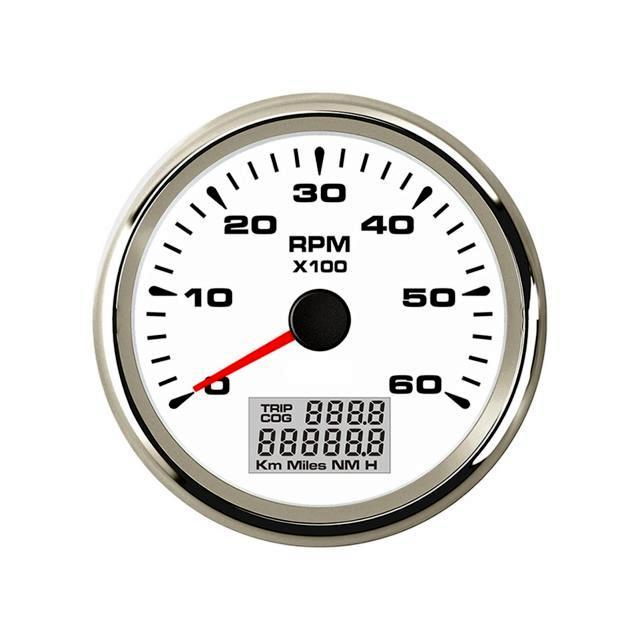Needle_Tip: (178, 370, 223, 406)
Needle_base: (284, 282, 359, 363)
max_value: (370, 362, 488, 412)
min_value: (161, 362, 285, 414)
